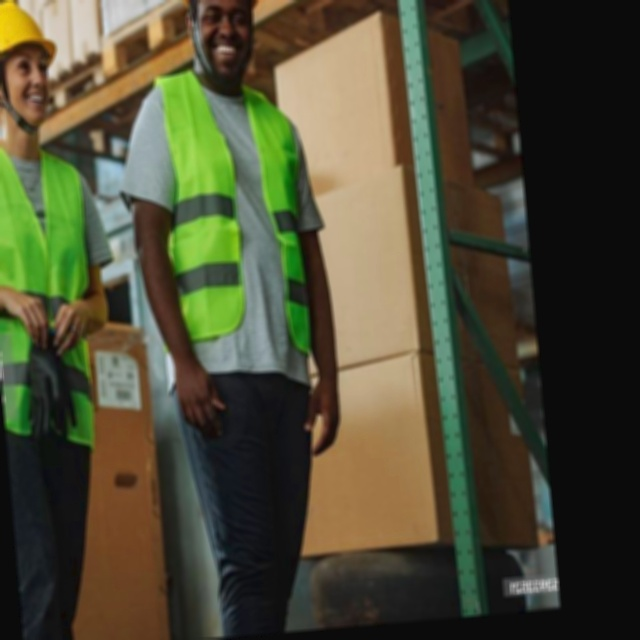Con_Casco: (0, 0, 63, 139), (174, 0, 263, 82)
Con_Chaleco: (139, 58, 325, 394), (0, 131, 112, 450)
